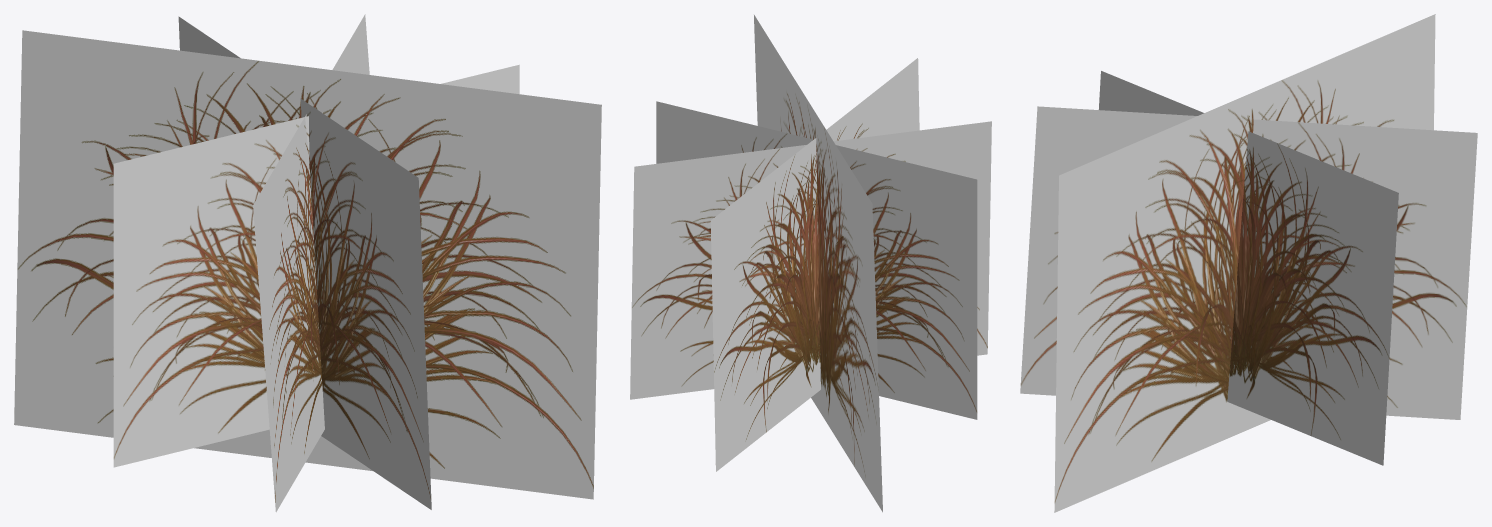
File: e_dry_grass_3.fbx
The picture shows the model from 3 angles, left to right: view 1: azimuth 30°, elevation 25°; view 2: azimuth 150°, elevation 25°; view 3: azimuth 270°, elevation 25°; orthographic projection. The views are drawn at different scales.
Visible parts, largest first — view 1: e_dry_grass_3; view 2: e_dry_grass_3; view 3: e_dry_grass_3.
Part boxes in pixels (left/top/right/bottom): e_dry_grass_3: left=14, top=14, right=601, bottom=512; e_dry_grass_3: left=630, top=15, right=991, bottom=512; e_dry_grass_3: left=1020, top=14, right=1477, bottom=512.
Size of the model in its own units: 33.94 by 31.69 by 37.82.
1 material, 1 textured.
